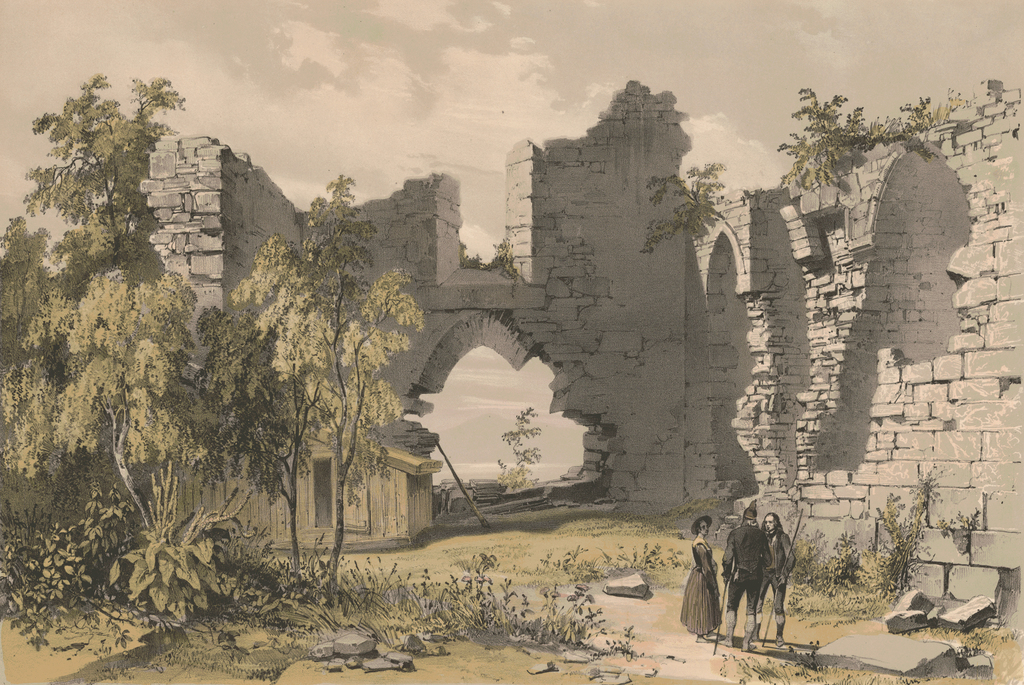Tree: (0, 64, 209, 567), (216, 119, 421, 569), (776, 69, 948, 204), (645, 163, 732, 257)
